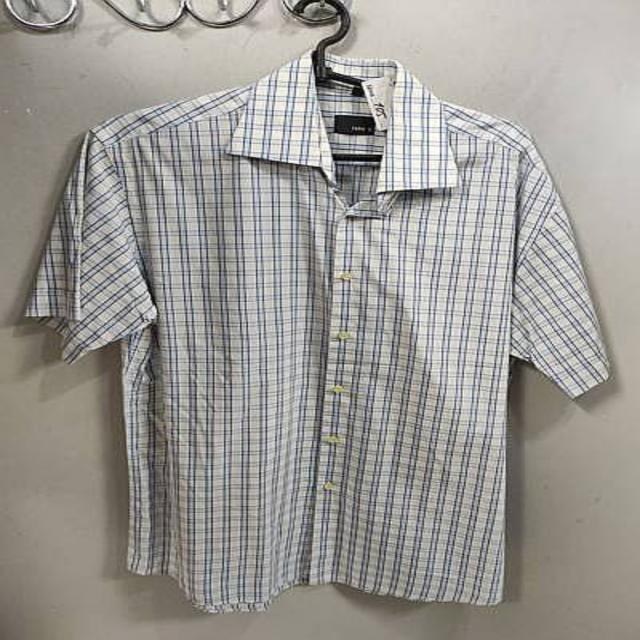SHIRT: (14, 46, 640, 623)
